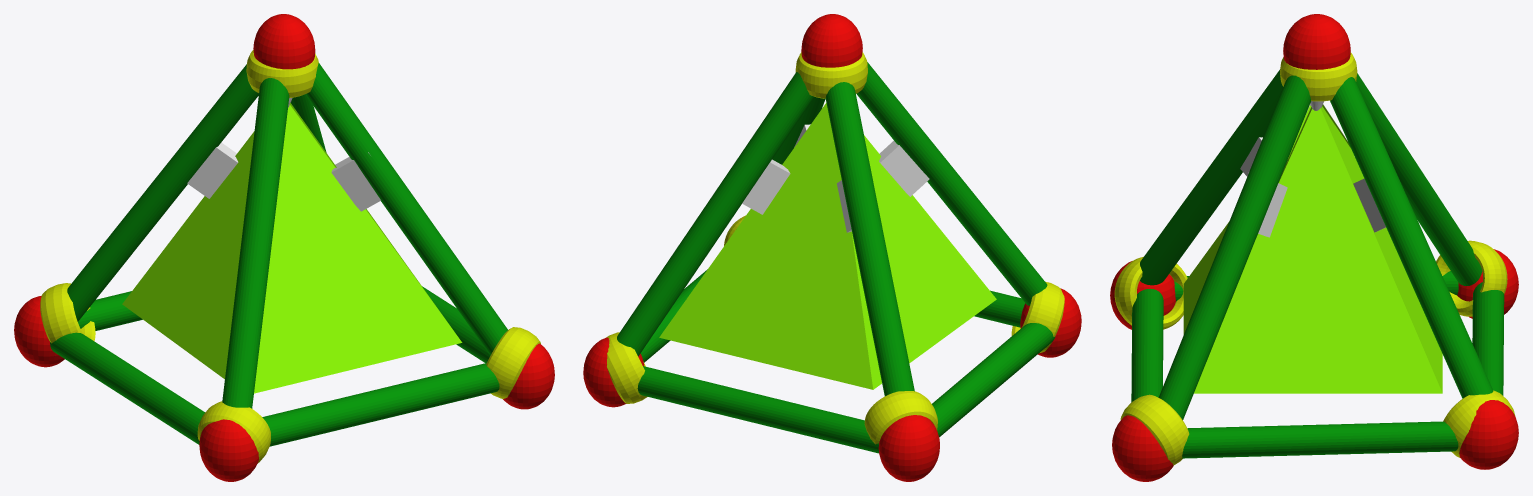
File: Grenade03.fbx
The picture shows the model from 3 angles, left to right: view 1: azimuth 30°, elevation 25°; view 2: azimuth 150°, elevation 25°; view 3: azimuth 270°, elevation 25°; orthographic projection. The views are drawn at different scales.
Visible parts, largest first — view 1: Cube, Cylinder.002, Cylinder, Cylinder.003, Cylinder.004, Cylinder.006, Sphere.001, Sphere.003, Torus.001, Sphere.002, Sphere.004, Torus.002 (+7 smaller); view 2: Cube, Cylinder.003, Cylinder.001, Cylinder.002, Cylinder.007, Cylinder.006, Sphere.004, Sphere.003, Torus.002, Torus.003, Torus, Sphere (+7 smaller); view 3: Cube, Cylinder, Cylinder.001, Cylinder.005, Cylinder.002, Cylinder.003, Cylinder.004, Sphere.003, Sphere, Cylinder.007, Sphere.002, Torus.001 (+8 smaller).
Boxes of the visible parts, <box> form: Cube: <box>122,103,462,393</box>; Cylinder.002: <box>222,78,289,408</box>; Cylinder: <box>305,63,507,355</box>; Cylinder.003: <box>67,64,258,321</box>; Cylinder.004: <box>262,363,499,446</box>; Cylinder.006: <box>50,332,204,444</box>; Sphere.001: <box>199,419,258,481</box>; Sphere.003: <box>253,14,315,69</box>; Torus.001: <box>486,327,540,398</box>; Sphere.002: <box>503,343,554,409</box>; Sphere.004: <box>14,296,64,367</box>; Torus.002: <box>40,283,95,343</box>; Cube: <box>659,103,996,389</box>; Cylinder.003: <box>825,82,914,396</box>; Cylinder.001: <box>617,72,814,356</box>; Cylinder.002: <box>856,62,1047,305</box>; Cylinder.007: <box>637,366,878,453</box>; Cylinder.006: <box>932,323,1054,437</box>; Sphere.004: <box>878,415,939,481</box>; Sphere.003: <box>801,14,862,67</box>; Torus.002: <box>864,391,937,444</box>; Torus.003: <box>795,52,867,98</box>; Torus: <box>606,332,647,403</box>; Sphere: <box>583,337,644,407</box>; Cube: <box>1183,104,1442,393</box>; Cylinder: <box>1158,75,1310,419</box>; Cylinder.001: <box>1330,77,1493,398</box>; Cylinder.005: <box>1182,421,1458,458</box>; Cylinder.002: <box>1140,69,1283,285</box>; Cylinder.003: <box>1356,73,1482,285</box>; Cylinder.004: <box>1131,288,1163,402</box>; Sphere.003: <box>1283,14,1350,69</box>; Sphere: <box>1459,400,1518,469</box>; Cylinder.007: <box>1472,282,1504,395</box>; Sphere.002: <box>1112,415,1173,481</box>; Torus.001: <box>1120,394,1189,465</box>.
Size of the model in its own units: 209 by 200 by 193.
